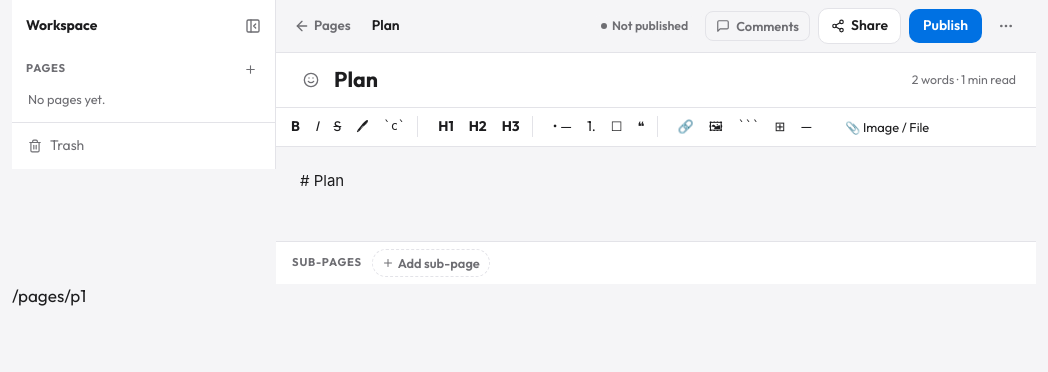
/pages/:id › publishes without leaving the editor
The image size is (1048, 372).
Expected: the field showing "Plan" is shown, [334,62,904,96]
Click the button "Publish" at (946, 26), box [909,9,982,42]
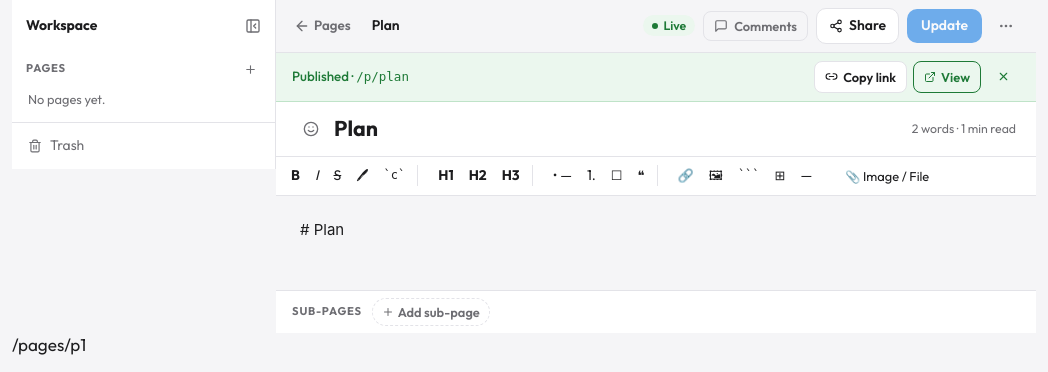
Expected: the text with test id "where" reads "/pages/p1", [12,334,86,354]
Now the text "Published · /p/plan" is shown, box [292,68,409,84]
Now the button "Update" is disabled, box [907,9,982,42]
